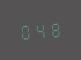eight: (47, 19, 60, 38)
four: (33, 20, 46, 39)
zero: (18, 21, 31, 40)
